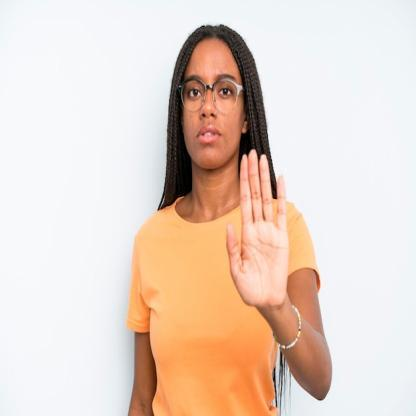stop: (224, 145, 292, 314)
